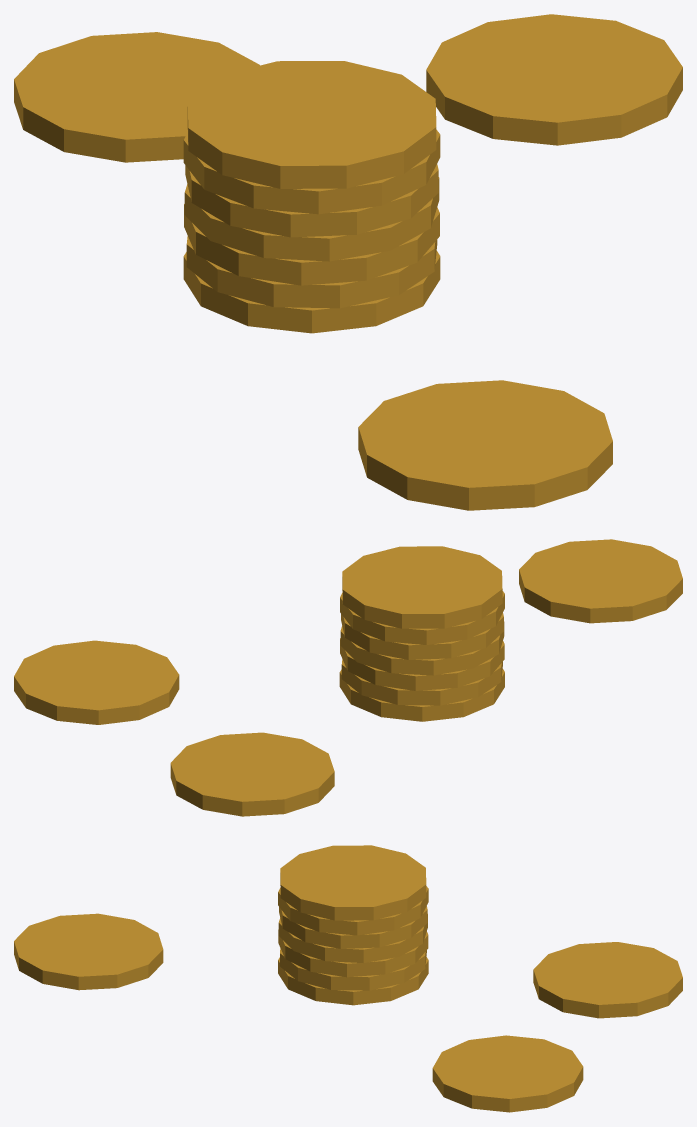
The model's file is pickup_coin_stack.glb.
3 renders of one model, top to bottom at view 1: azimuth 30°, elevation 25°; view 2: azimuth 150°, elevation 25°; view 3: azimuth 270°, elevation 25°, orthographic. The views are drawn at different scales.
Visible parts, largest first — view 1: Coin_Loose_1, Coin_Loose_3, Coin_Stacked_7, Coin_Loose_2, Coin_Stacked_6, Coin_Stacked_1, Coin_Stacked_4, Coin_Stacked_3, Coin_Stacked_5, Coin_Stacked_2; view 2: Coin_Loose_1, Coin_Loose_2, Coin_Loose_3, Coin_Stacked_7, Coin_Stacked_6, Coin_Stacked_1, Coin_Stacked_3, Coin_Stacked_4, Coin_Stacked_5, Coin_Stacked_2; view 3: Coin_Loose_1, Coin_Loose_3, Coin_Loose_2, Coin_Stacked_7, Coin_Stacked_6, Coin_Stacked_3, Coin_Stacked_1, Coin_Stacked_4, Coin_Stacked_5, Coin_Stacked_2.
Boxes of the visible parts, box(x1,y1,x2,y2) form: Coin_Loose_1: box(426, 14, 682, 145); Coin_Loose_3: box(358, 380, 612, 510); Coin_Stacked_7: box(187, 61, 436, 188); Coin_Loose_2: box(14, 32, 259, 162); Coin_Stacked_6: box(183, 129, 440, 214); Coin_Stacked_1: box(183, 251, 440, 333); Coin_Stacked_4: box(184, 177, 439, 261); Coin_Stacked_3: box(184, 204, 439, 285); Coin_Stacked_5: box(185, 164, 438, 237); Coin_Stacked_2: box(186, 236, 437, 308); Coin_Loose_1: box(14, 640, 179, 724); Coin_Loose_2: box(170, 732, 334, 816); Coin_Loose_3: box(519, 539, 682, 623); Coin_Stacked_7: box(342, 546, 502, 628); Coin_Stacked_6: box(340, 591, 504, 644); Coin_Stacked_1: box(339, 669, 504, 721); Coin_Stacked_3: box(340, 638, 504, 690); Coin_Stacked_4: box(340, 621, 504, 675); Coin_Stacked_5: box(341, 613, 503, 659); Coin_Stacked_2: box(341, 659, 502, 705); Coin_Loose_1: box(432, 1035, 583, 1112); Coin_Loose_3: box(14, 913, 163, 990); Coin_Loose_2: box(533, 942, 682, 1018); Coin_Stacked_7: box(280, 845, 426, 920); Coin_Stacked_6: box(278, 886, 428, 935); Coin_Stacked_3: box(278, 929, 428, 977); Coin_Stacked_1: box(278, 957, 428, 1005); Coin_Stacked_4: box(278, 914, 427, 962); Coin_Stacked_5: box(279, 906, 427, 948); Coin_Stacked_2: box(280, 948, 426, 990).
Size of the model in its own units: 0.0769 by 0.0188 by 0.1172.
